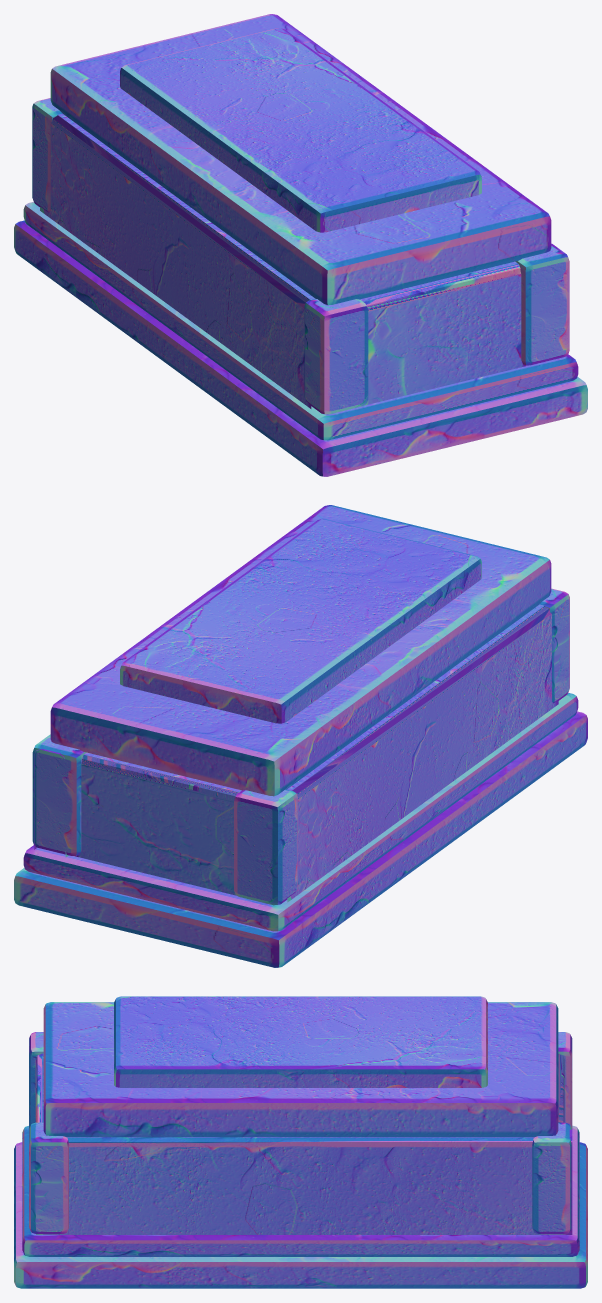
File: Props_StoneCoffin.fbx
3 views of the same model, one above another, from view 1: azimuth 30°, elevation 25°; view 2: azimuth 150°, elevation 25°; view 3: azimuth 270°, elevation 25° (orthographic). The views are drawn at different scales.
Visible parts, largest first — view 1: CDTMesh_StoneCoffinMainHP, CDTMesh_StoneCoffinTopHP; view 2: CDTMesh_StoneCoffinMainHP, CDTMesh_StoneCoffinTopHP; view 3: CDTMesh_StoneCoffinMainHP, CDTMesh_StoneCoffinTopHP.
Part boxes in pixels (x1,y1,x2,y2): CDTMesh_StoneCoffinMainHP: (14, 98, 587, 476); CDTMesh_StoneCoffinTopHP: (50, 14, 551, 305); CDTMesh_StoneCoffinMainHP: (14, 588, 587, 967); CDTMesh_StoneCoffinTopHP: (50, 505, 551, 796); CDTMesh_StoneCoffinMainHP: (14, 1032, 587, 1288); CDTMesh_StoneCoffinTopHP: (43, 996, 558, 1137).
Size of the model in its own units: 1.83 by 1.41 by 3.67.
